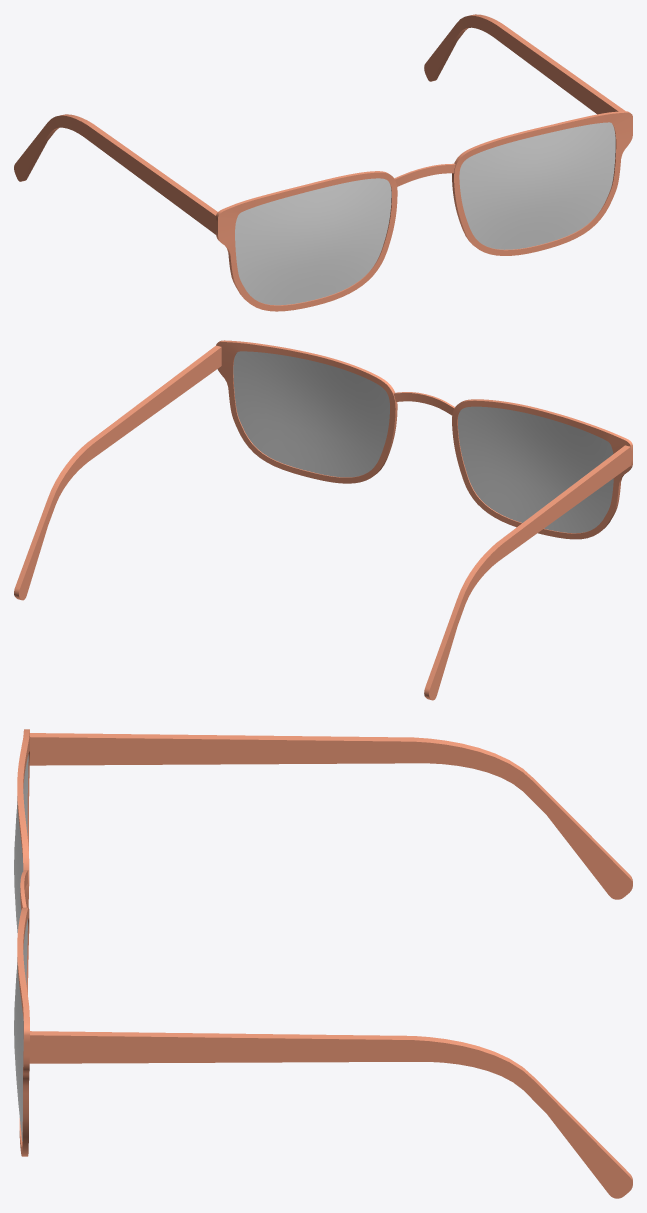
Rendered from PRADA Glasses Full Res.fbx.
3 renders of one model, top to bottom at view 1: azimuth 30°, elevation 25°; view 2: azimuth 150°, elevation 25°; view 3: azimuth 270°, elevation 25°, orthographic. The views are drawn at different scales.
Parts seen in each view (by area): view 1: PRADA Glasses Full Res; view 2: PRADA Glasses Full Res; view 3: PRADA Glasses Full Res.
Boxes of the visible parts, left/top/right/bottom form: PRADA Glasses Full Res: left=14, top=14, right=632, bottom=311; PRADA Glasses Full Res: left=14, top=340, right=632, bottom=700; PRADA Glasses Full Res: left=14, top=729, right=632, bottom=1198.
Bounding box in the file's own units: 0.1671 × 0.0471 × 0.1445.
